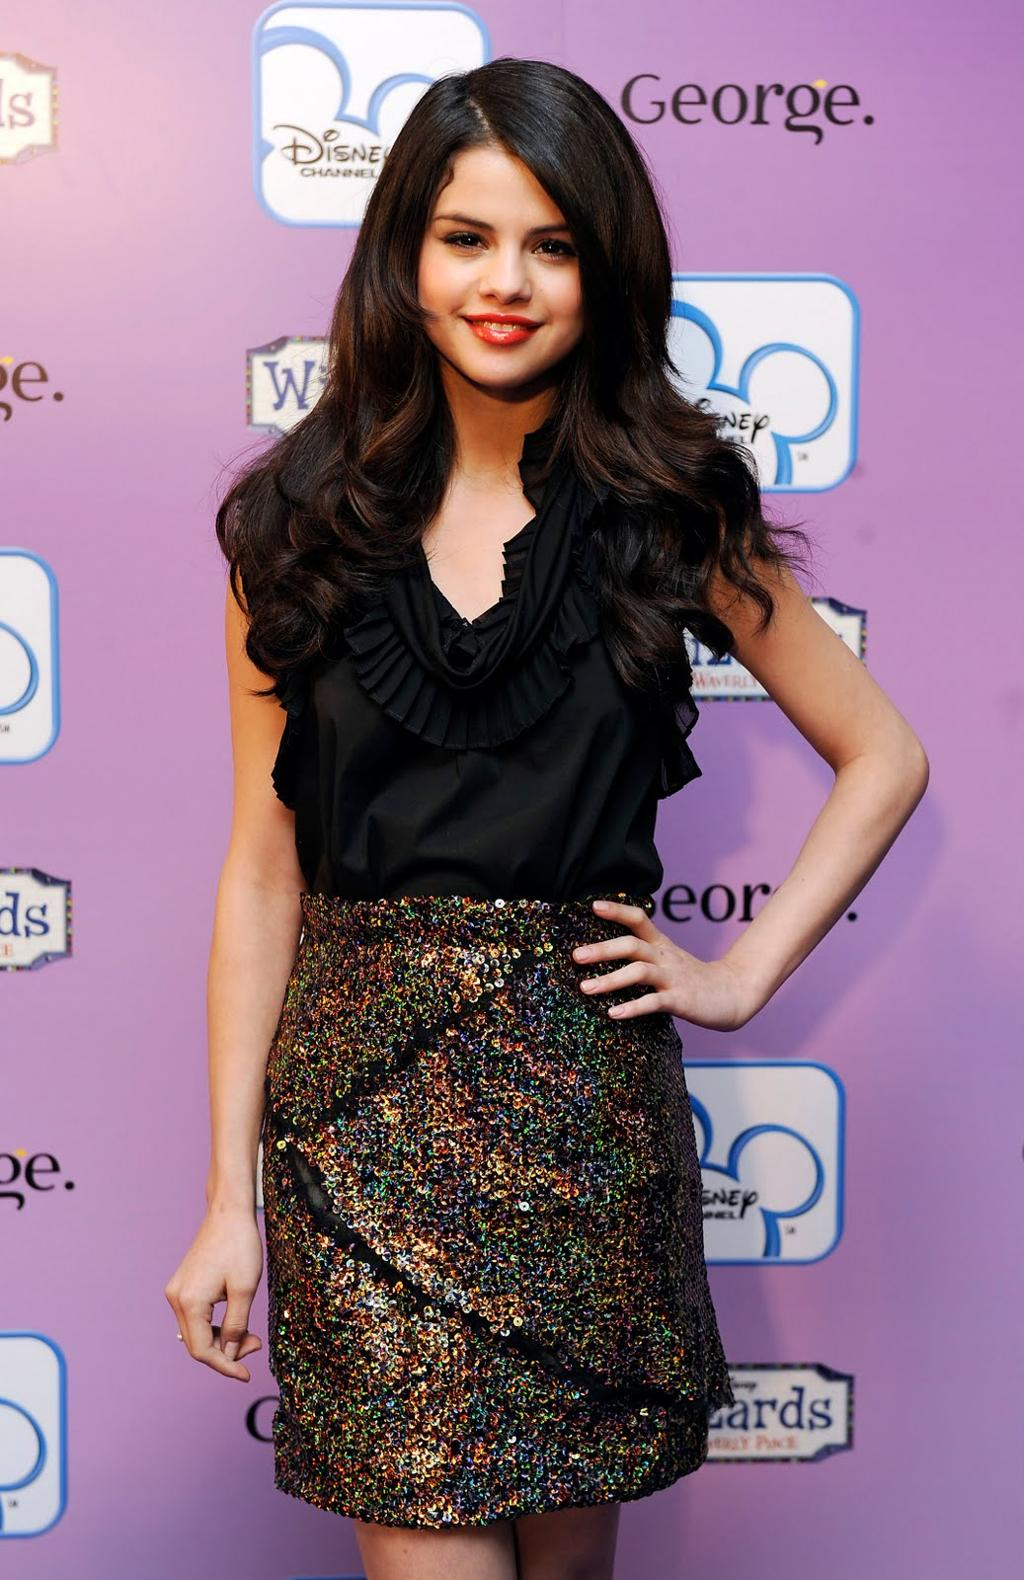face: (416, 145, 592, 382)
